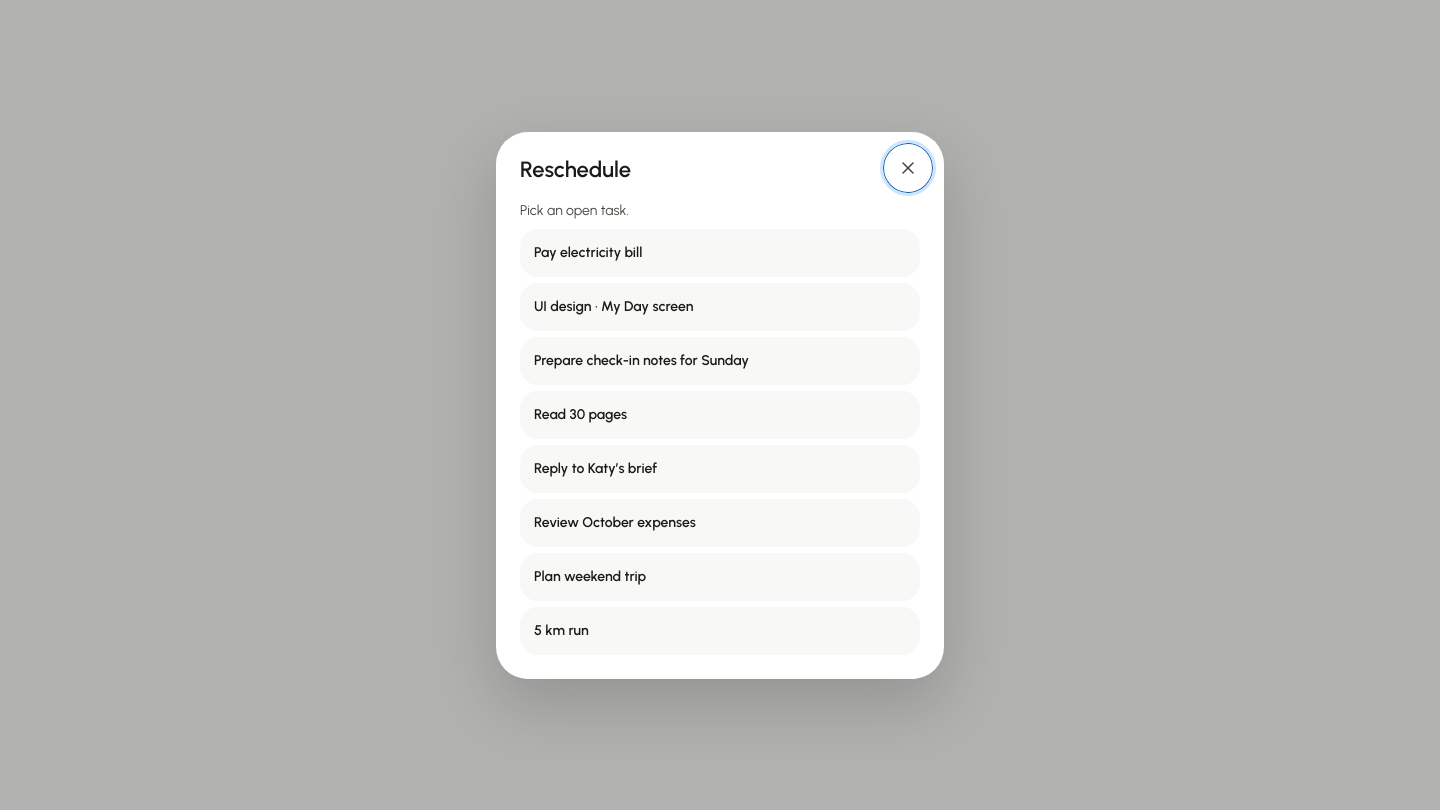
SheetHost (P18 container rule) › ?sheet=reschedule opens a compact centred sheet with a task picker when there is no target
The width and height of the screenshot is (1440, 810).
Step 1. Click the button "Pay electricity bill" → (588, 252), box [520,228,920,276]
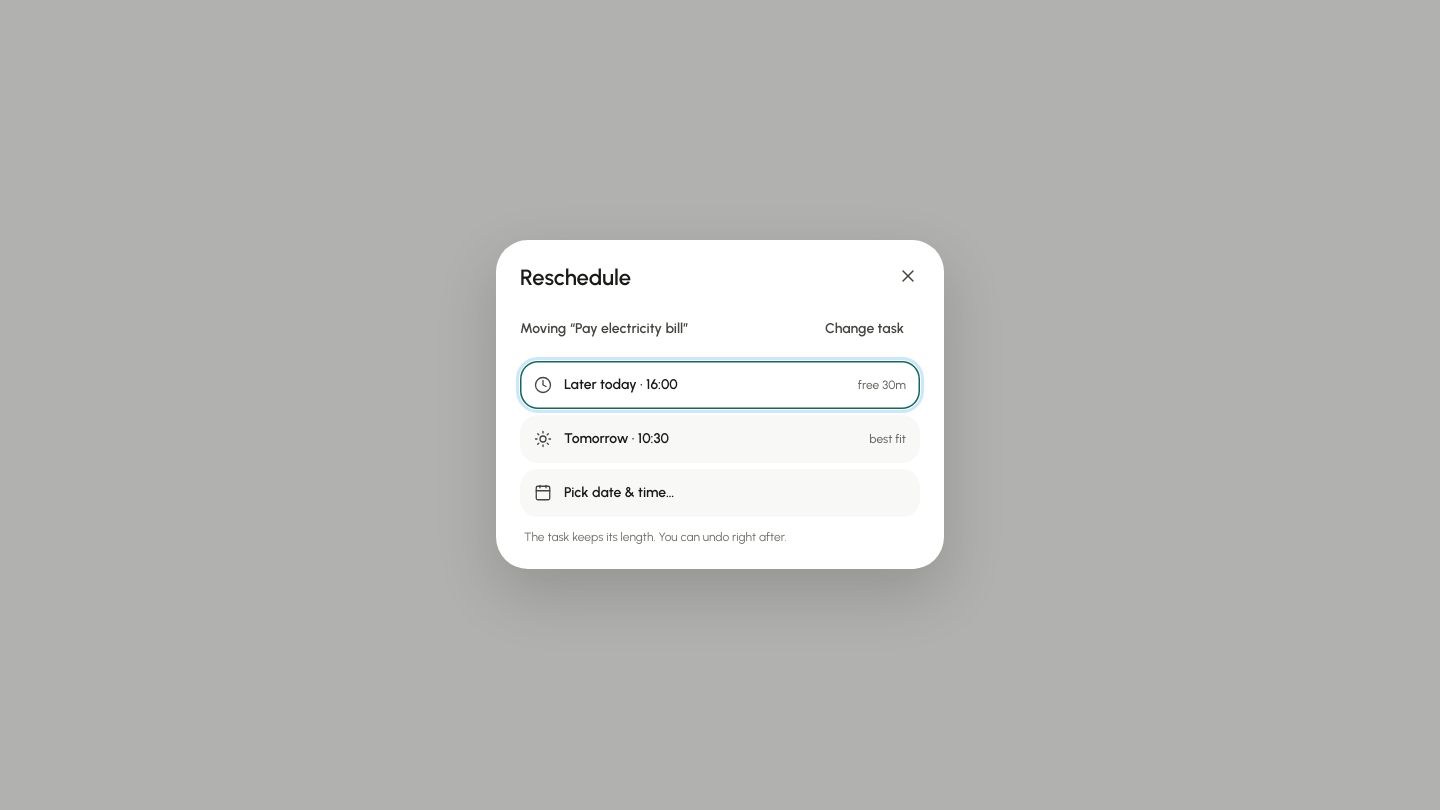
expect the menu named "Reschedule options" is shown: met, box [520,361,920,517]
expect the button "Change task" is shown: met, box [809,309,920,349]
